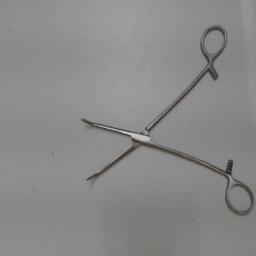Lahey Forceps: (73, 20, 255, 218)
